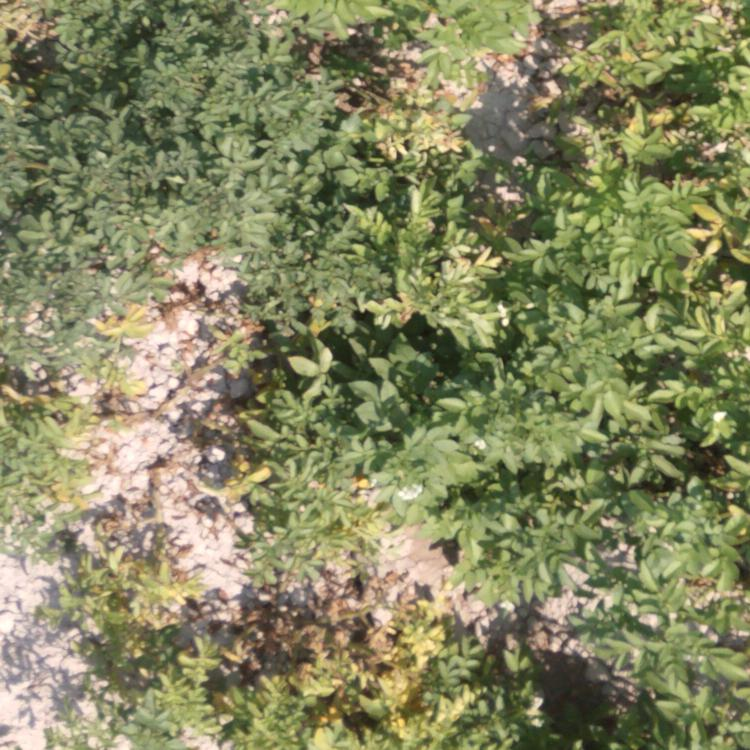healthy: (413, 306, 728, 589), (1, 5, 331, 245), (555, 595, 750, 735), (408, 169, 536, 299), (1, 249, 173, 302), (338, 171, 404, 242)
stressed: (551, 6, 750, 299), (206, 594, 509, 750), (231, 390, 397, 597), (341, 1, 541, 163), (64, 533, 209, 750), (239, 253, 404, 373), (1, 321, 95, 524), (96, 308, 176, 410)
